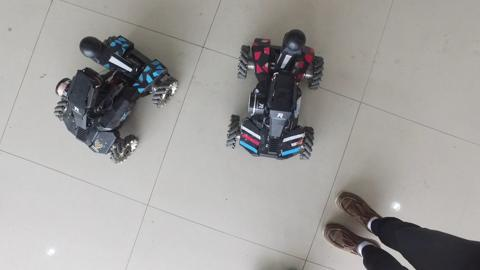chariot: (44, 27, 183, 173), (221, 26, 326, 169)
